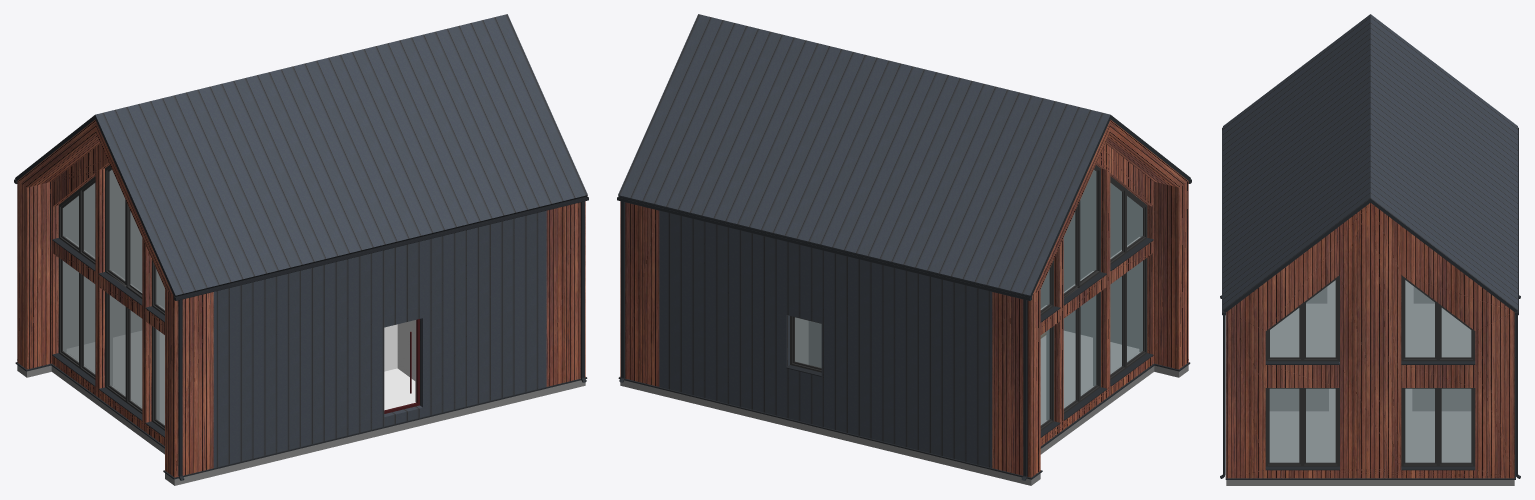
The model's file is DOM 1b_3D_rev6.obj.
The picture shows the model from 3 angles, left to right: view 1: azimuth 30°, elevation 25°; view 2: azimuth 150°, elevation 25°; view 3: azimuth 270°, elevation 25°; orthographic projection. The views are drawn at different scales.
Visible parts, largest first — view 1: Mesh10 Model, Mesh17 Model, Mesh16 Model, Mesh13 Model; view 2: Mesh10 Model, Mesh9 Model, Mesh12 Model; view 3: Mesh10 Model, Mesh12 Model, Mesh13 Model.
Boxes of the visible parts, box(x1,y1,x2,y2) form: Mesh10 Model: box(14, 14, 587, 485); Mesh17 Model: box(174, 196, 588, 300); Mesh16 Model: box(178, 299, 184, 480); Mesh13 Model: box(580, 201, 586, 382); Mesh10 Model: box(617, 14, 1190, 485); Mesh9 Model: box(1021, 299, 1027, 480); Mesh12 Model: box(619, 201, 625, 382); Mesh10 Model: box(1223, 14, 1518, 485); Mesh12 Model: box(1515, 315, 1520, 478); Mesh13 Model: box(1220, 315, 1225, 478).
Size of the model in its own units: 1062 by 771 by 730.
12 materials, 4 textured.
